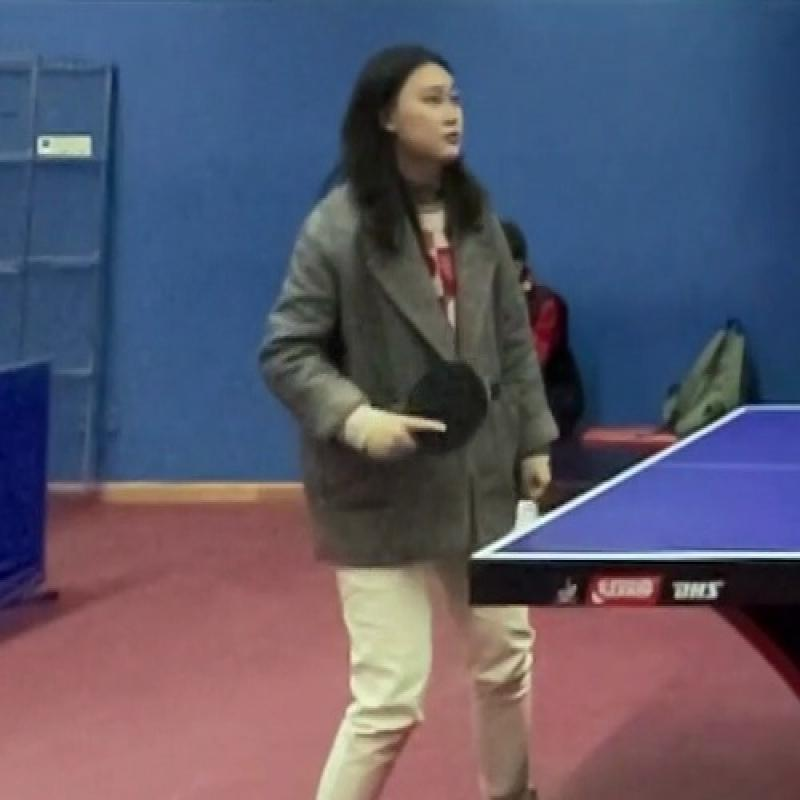bats: (388, 350, 492, 463)
